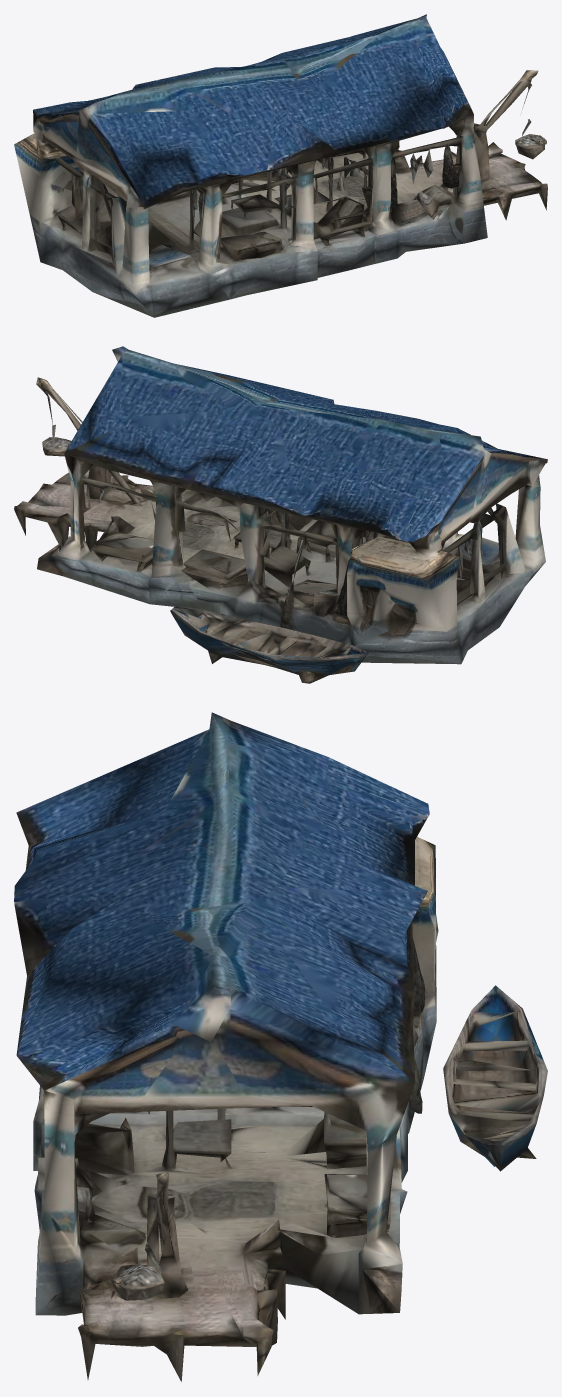
Rendered from fishing_hut_2.glb.
3 views of the same model, one above another, from view 1: azimuth 30°, elevation 25°; view 2: azimuth 150°, elevation 25°; view 3: azimuth 270°, elevation 25° (orthographic). The views are drawn at different scales.
Parts seen in each view (by area): view 1: tripo_node_d9f5a890-0c20-4da9-9cfe-7d27fd147d65; view 2: tripo_node_d9f5a890-0c20-4da9-9cfe-7d27fd147d65; view 3: tripo_node_d9f5a890-0c20-4da9-9cfe-7d27fd147d65.
Part boxes in pixels (box(x1,y1,x2,y2)): tripo_node_d9f5a890-0c20-4da9-9cfe-7d27fd147d65: box(14, 14, 547, 317); tripo_node_d9f5a890-0c20-4da9-9cfe-7d27fd147d65: box(14, 346, 547, 683); tripo_node_d9f5a890-0c20-4da9-9cfe-7d27fd147d65: box(14, 712, 547, 1381).
Bounding box in the file's own units: 0.9742 × 0.3919 × 0.5816.
1 material, 1 textured.
